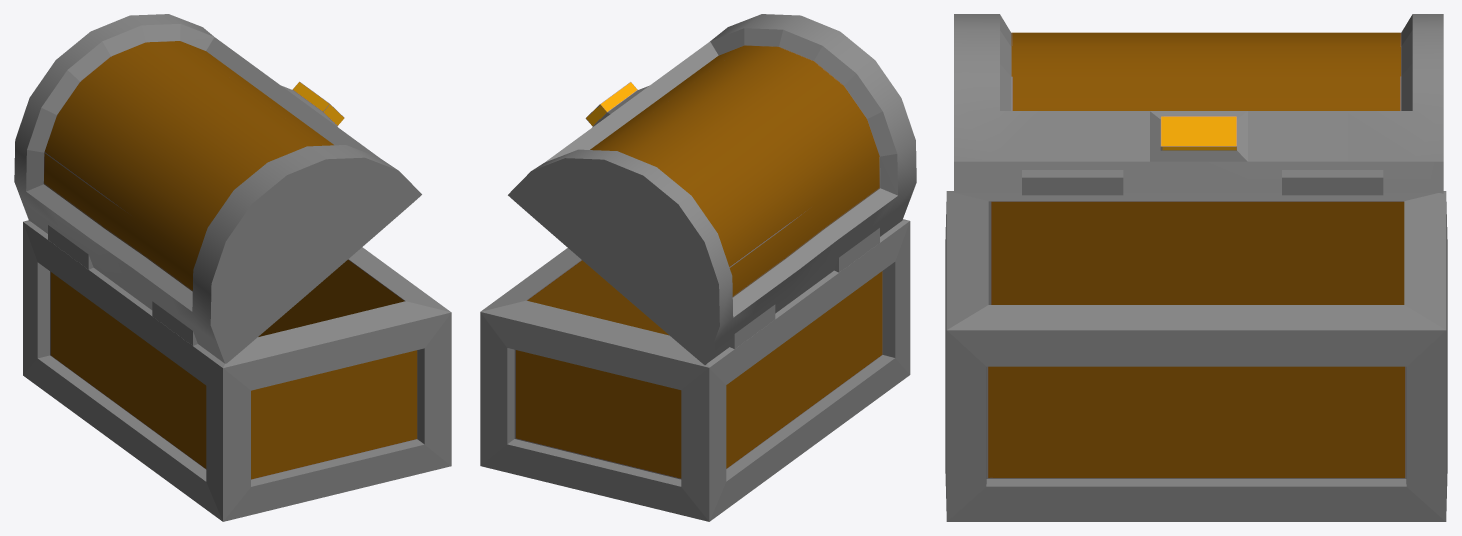
Rendered from chest.FBX.
3 renders of one model, left to right at view 1: azimuth 30°, elevation 25°; view 2: azimuth 150°, elevation 25°; view 3: azimuth 270°, elevation 25°, orthographic. The views are drawn at different scales.
Visible parts, largest first — view 1: Cylinder001, Box002; view 2: Cylinder001, Box002; view 3: Box002, Cylinder001.
Part boxes in pixels (x1=…): Cylinder001: x1=14, y1=14, x2=421, y2=363; Box002: x1=23, y1=220, x2=451, y2=521; Cylinder001: x1=508, y1=14, x2=916, y2=364; Box002: x1=480, y1=219, x2=910, y2=521; Box002: x1=945, y1=170, x2=1447, y2=521; Cylinder001: x1=954, y1=14, x2=1443, y2=193.
Bounding box in the file's own units: 37.09 × 49.49 × 53.96.
